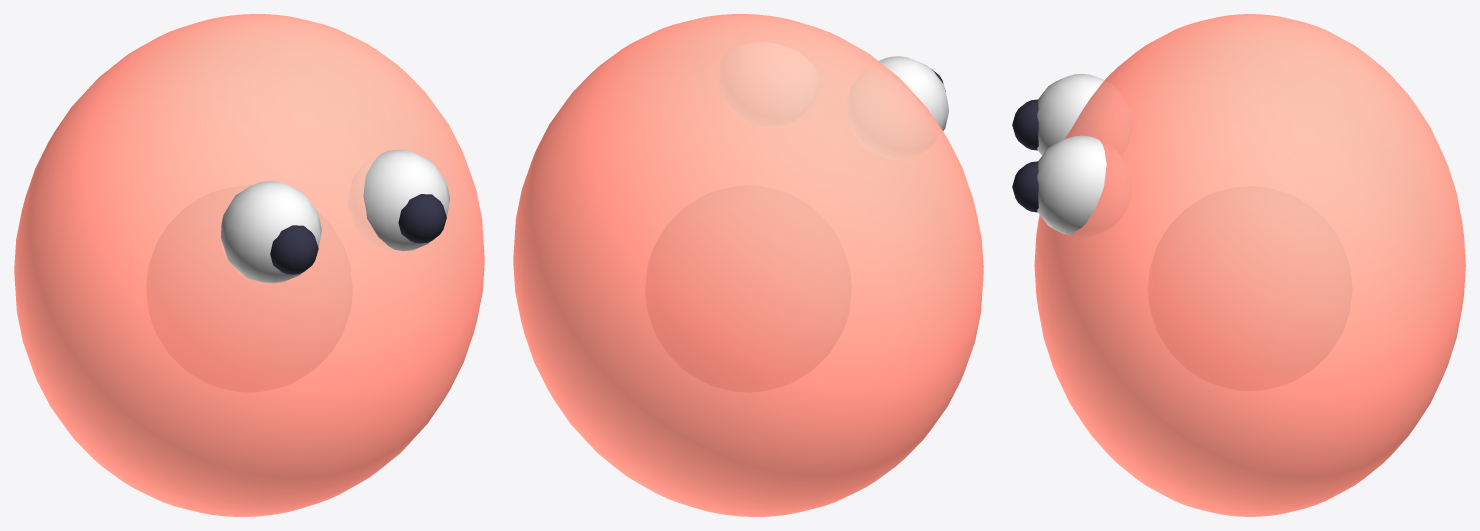
Rendered from blob_red.glb.
3 views of the same model, side by side, from view 1: azimuth 30°, elevation 25°; view 2: azimuth 150°, elevation 25°; view 3: azimuth 270°, elevation 25° (orthographic).
Visible parts, largest first — view 1: Sphere, Sphere.002, Sphere.004, Sphere.003, Sphere.005; view 2: Sphere, Sphere.002; view 3: Sphere, Sphere.004, Sphere.002, Sphere.005, Sphere.003.
Boxes of the visible parts, x1,y1,x2,y2 form: Sphere: (14, 14, 484, 516); Sphere.002: (220, 181, 321, 283); Sphere.004: (363, 149, 449, 251); Sphere.003: (270, 225, 318, 274); Sphere.005: (398, 194, 446, 243); Sphere: (513, 14, 983, 516); Sphere.002: (879, 56, 948, 130); Sphere: (1034, 14, 1465, 516); Sphere.004: (1037, 135, 1106, 234); Sphere.002: (1037, 73, 1104, 155); Sphere.005: (1012, 161, 1038, 212); Sphere.003: (1012, 99, 1038, 150).
Size of the model in its own units: 1.3 by 1.39 by 1.24.
